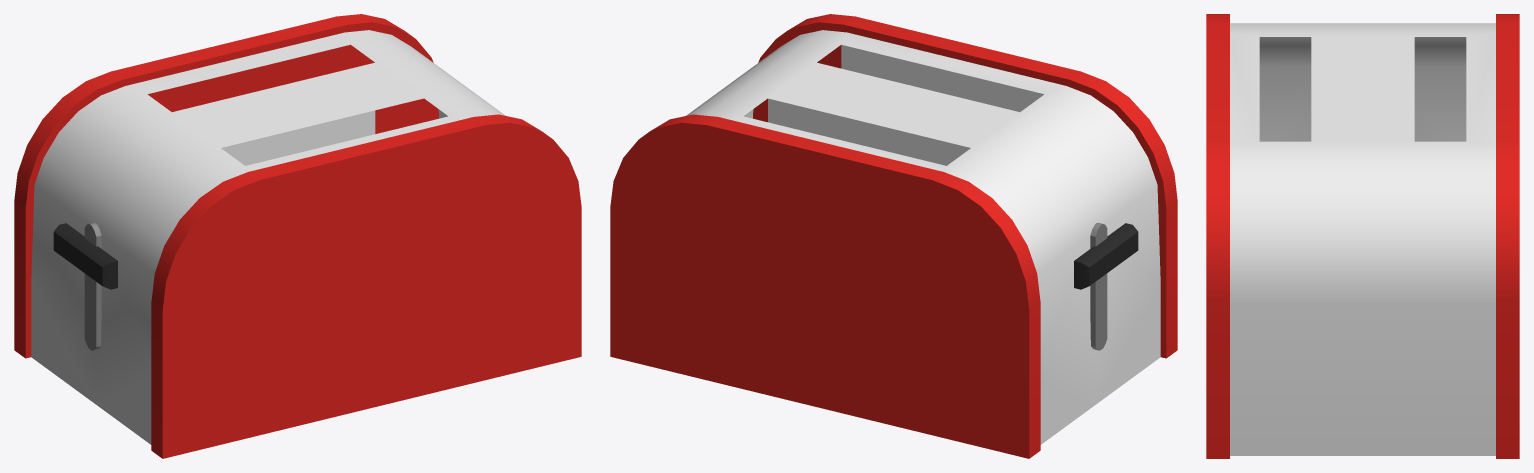
Rendered from touster-ghost.fbx.
3 renders of one model, left to right at view 1: azimuth 30°, elevation 25°; view 2: azimuth 150°, elevation 25°; view 3: azimuth 270°, elevation 25°, orthographic. The views are drawn at different scales.
Parts seen in each view (by area): view 1: Cube.001, Cube, Cube.004, Cube.002; view 2: Cube.001, Cube, Cube.004, Cube.002; view 3: Cube, Cube.001.
Part boxes in pixels (left/top/right/bottom): Cube.001: left=14, top=14, right=581, bottom=458; Cube: left=31, top=30, right=505, bottom=444; Cube.004: left=53, top=223, right=117, bottom=289; Cube.002: left=84, top=222, right=101, bottom=350; Cube.001: left=610, top=14, right=1177, bottom=458; Cube: left=686, top=30, right=1160, bottom=444; Cube.004: left=1074, top=223, right=1138, bottom=289; Cube.002: left=1090, top=222, right=1107, bottom=350; Cube: left=1230, top=23, right=1495, bottom=455; Cube.001: left=1206, top=14, right=1519, bottom=458.
Size of the model in its own units: 158 by 89.66 by 94.57.
